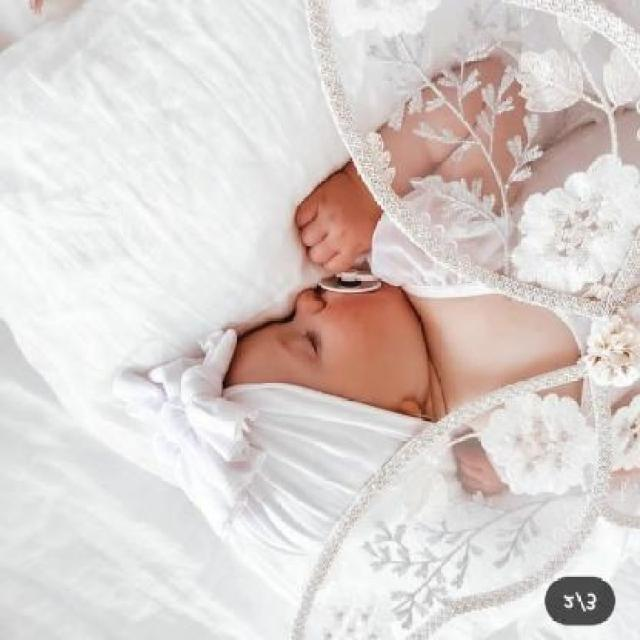baby: (189, 66, 637, 580)
